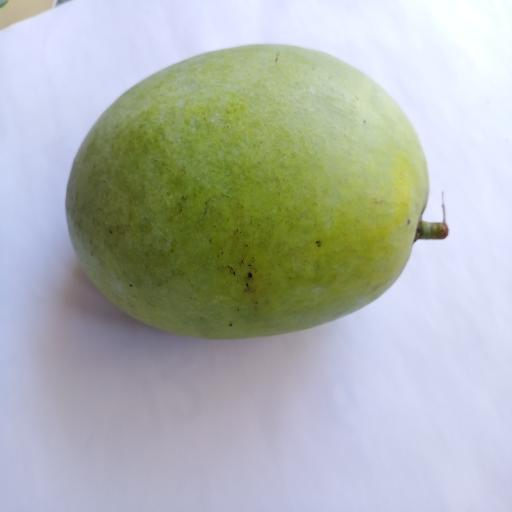mango-unripe: (46, 30, 464, 348)
